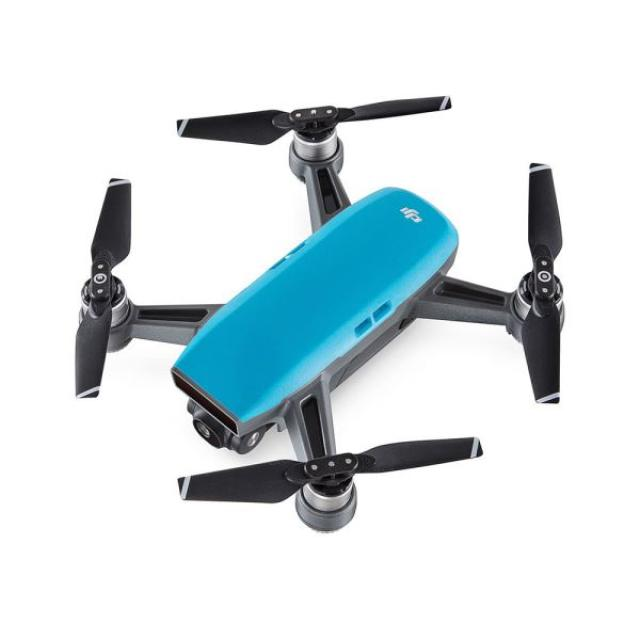drone: (56, 96, 593, 529)
